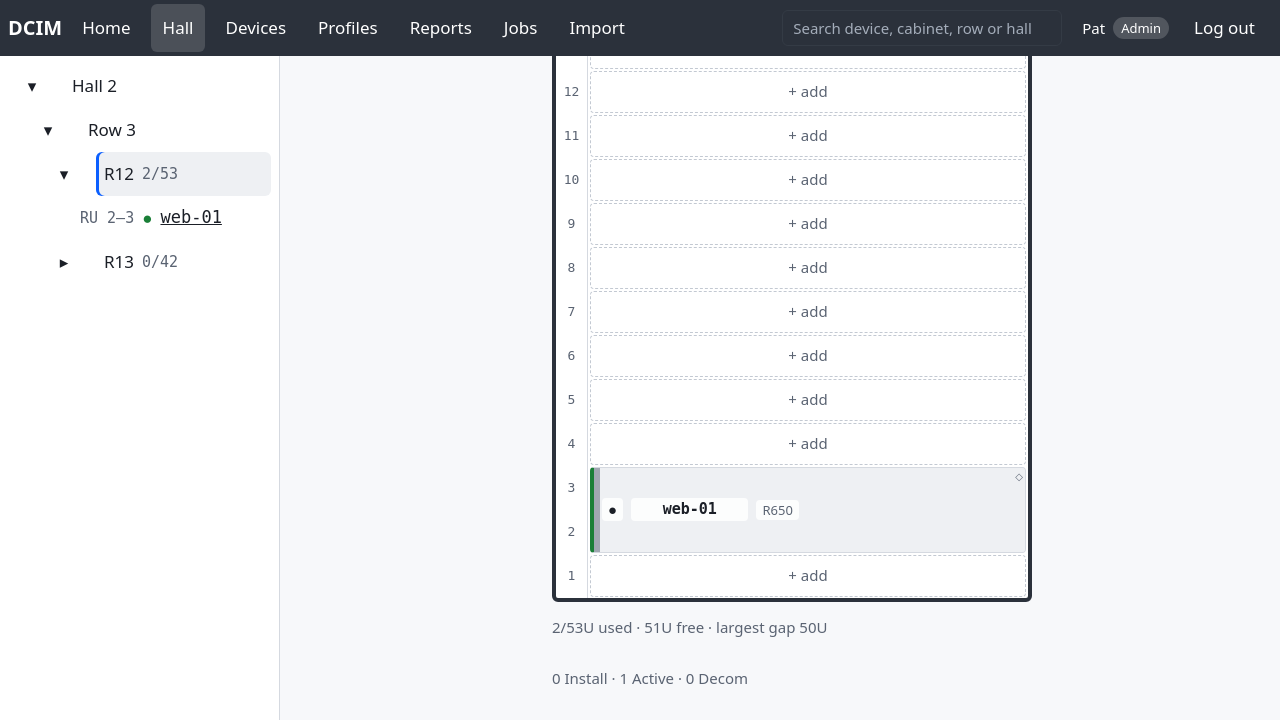
Test case: profile required for placement › has no Unknown device item; an empty RU asks Choose profile first, then places with profile_id
(page scrolled)
Click the button with test id "slot-front-1". click: (808, 576)
box: [590,555,1026,597]
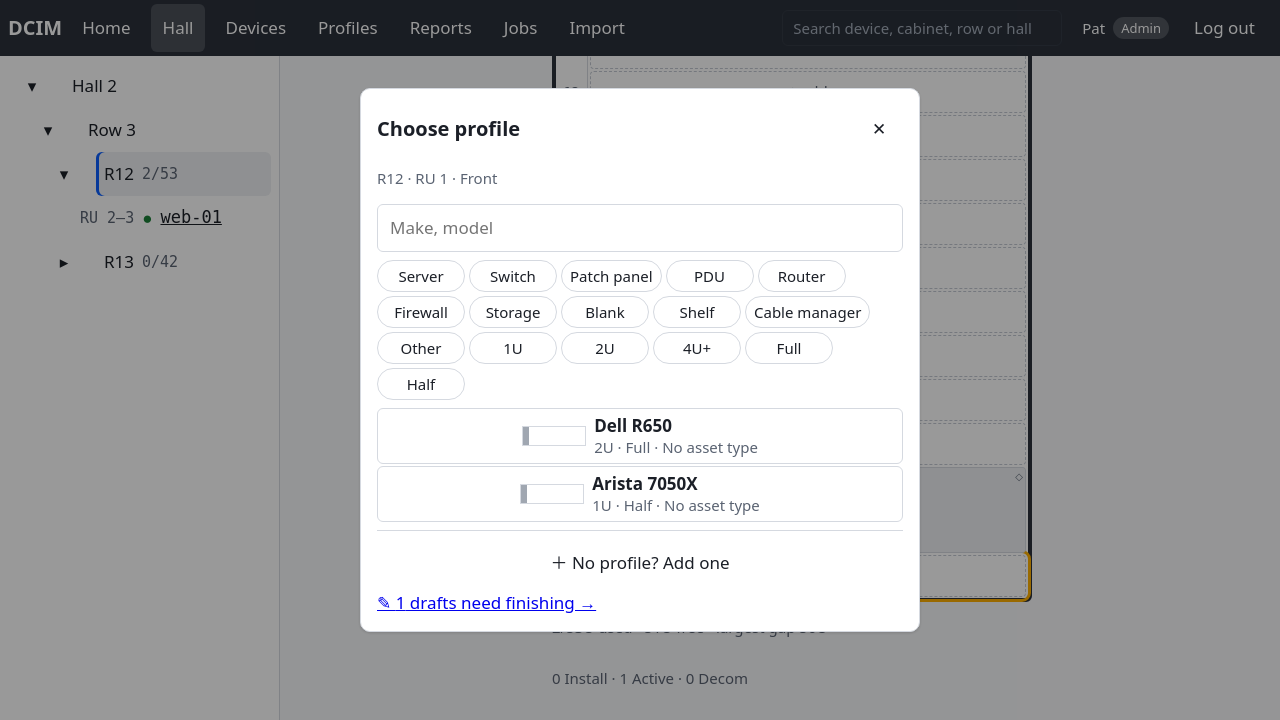
Click the button with aria-label "Arista 7050X, 1U · Half". click: (640, 494)
box: [377,466,903,522]
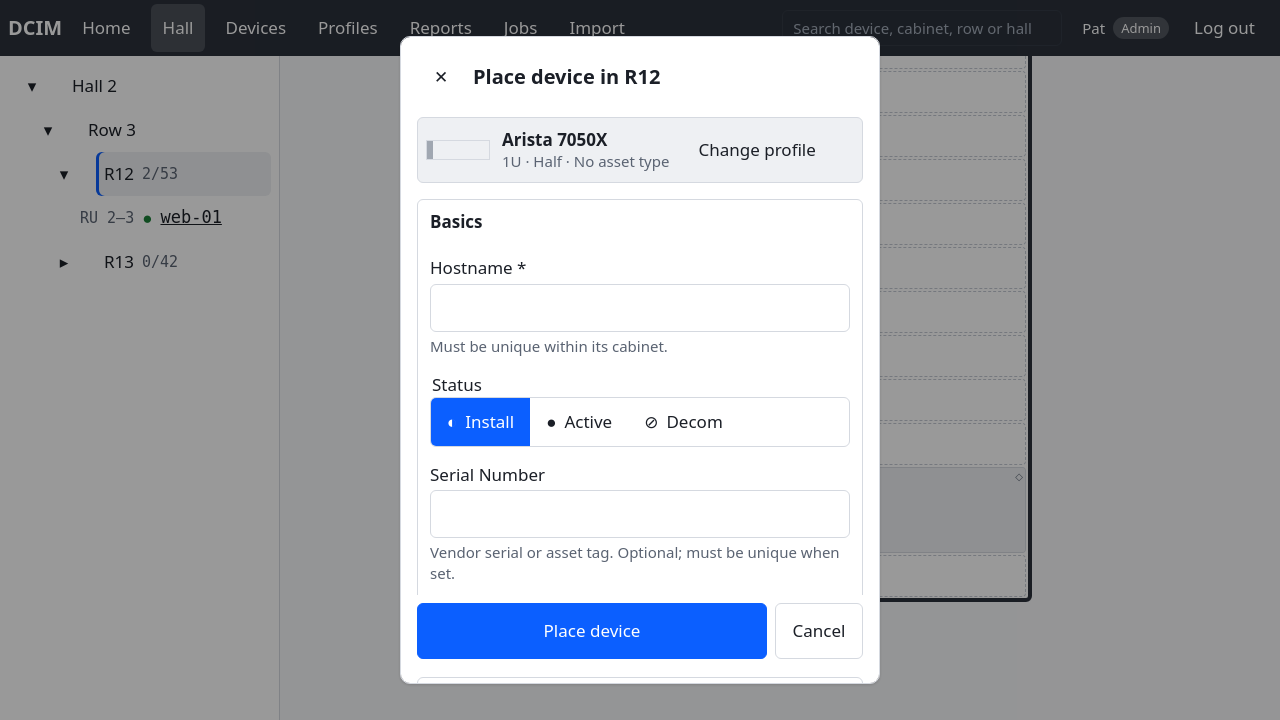
Type "sw-09" into the field labelled "Hostname". click: (640, 308)
box: [430,284,850,332]
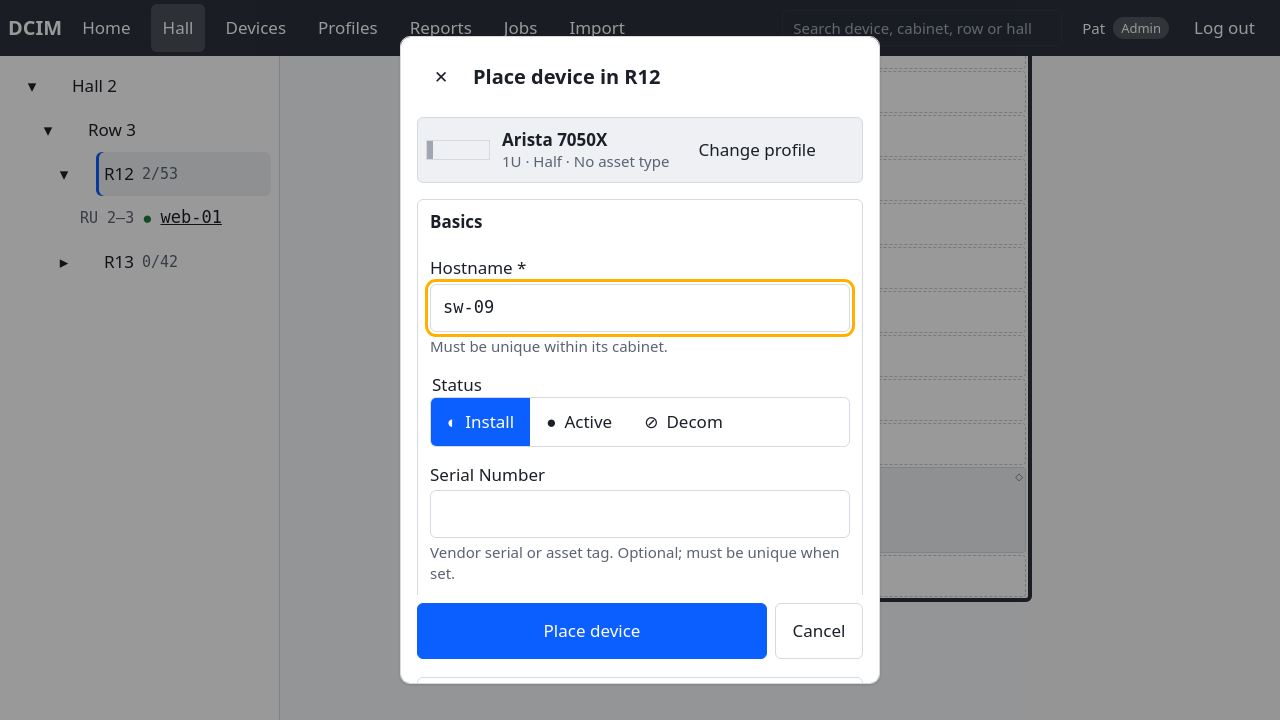
Click the button "Place device". click: (592, 631)
box: [417,603,767,659]
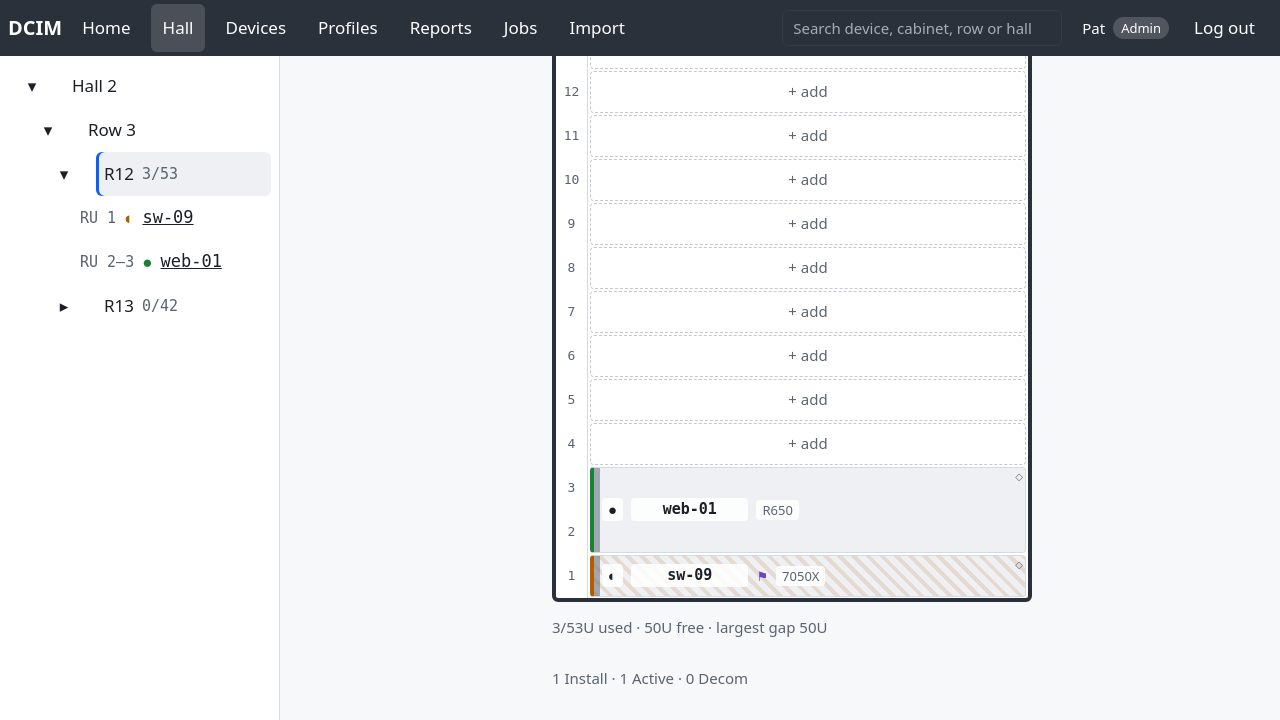
Expected: the dialog is gone
